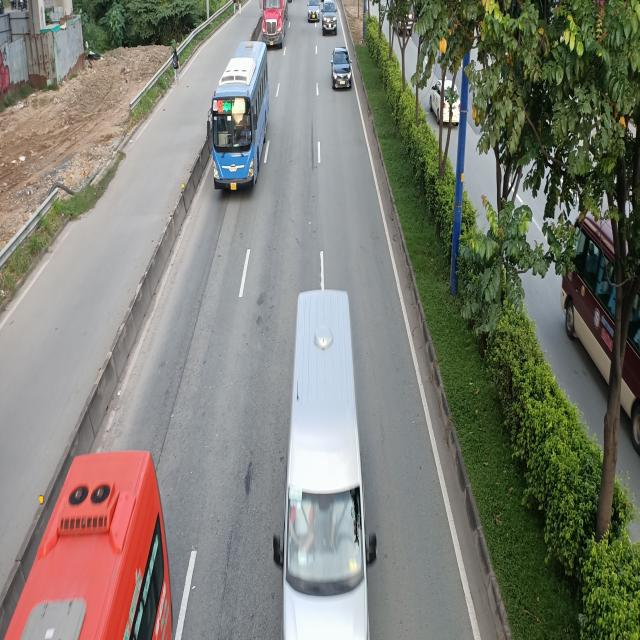car: (331, 47, 352, 88), (322, 0, 337, 35), (306, 0, 320, 21)
coach: (207, 41, 270, 192)
container: (259, 0, 289, 46)
van: (272, 289, 378, 640), (14, 453, 174, 640)
